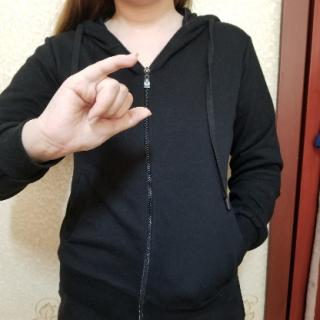YA: (39, 53, 156, 158)
